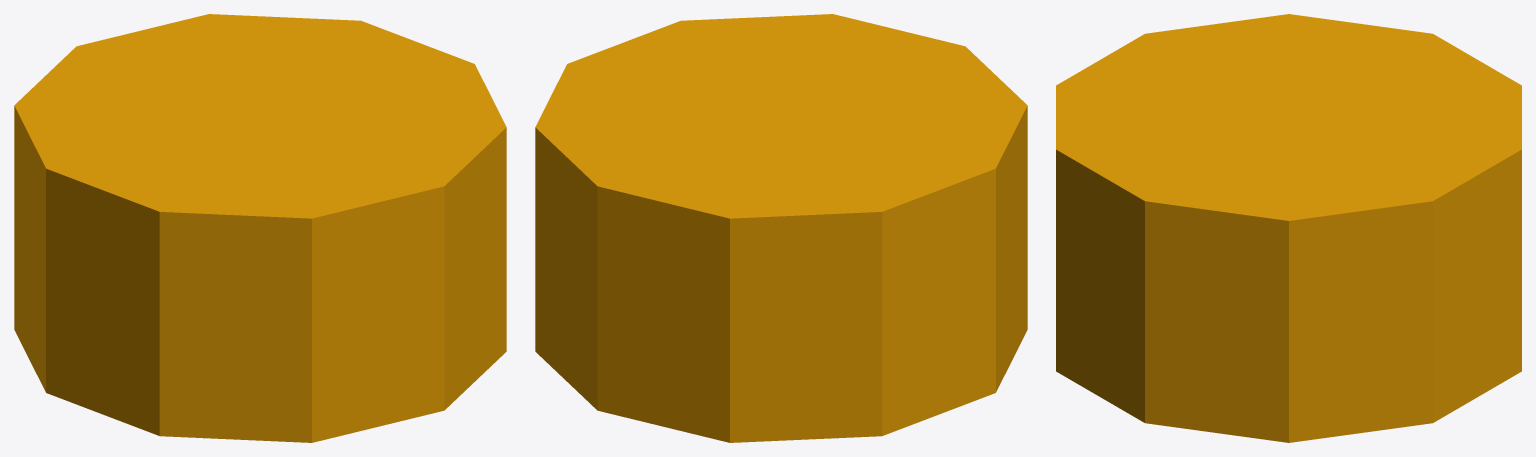
File: 10_2_3_cyl.fbx
3 renders of one model, left to right at view 1: azimuth 30°, elevation 25°; view 2: azimuth 150°, elevation 25°; view 3: azimuth 270°, elevation 25°, orthographic.
Parts seen in each view (by area): view 1: pCylinder1; view 2: pCylinder1; view 3: pCylinder1.
Boxes of the visible parts, bbox=[...] form: pCylinder1: bbox=[14, 14, 506, 442]; pCylinder1: bbox=[535, 14, 1027, 442]; pCylinder1: bbox=[1056, 14, 1521, 442].
Bounding box in the file's own units: 2 × 1 × 1.9.
